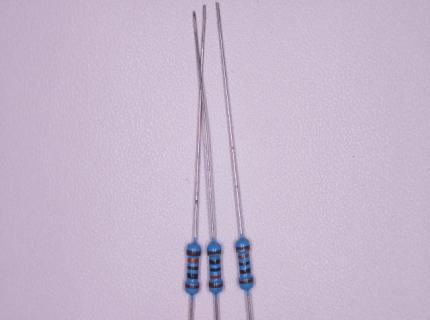Black band: (187, 272, 198, 279), (240, 267, 251, 274), (210, 259, 220, 265), (187, 266, 198, 271), (239, 261, 250, 266), (210, 268, 220, 271)
Brown band: (239, 276, 253, 284), (186, 250, 201, 256), (209, 282, 223, 288), (185, 284, 199, 289), (236, 245, 250, 250), (208, 250, 221, 255)
Orange band: (238, 253, 249, 259), (188, 259, 198, 264), (211, 274, 221, 279)
